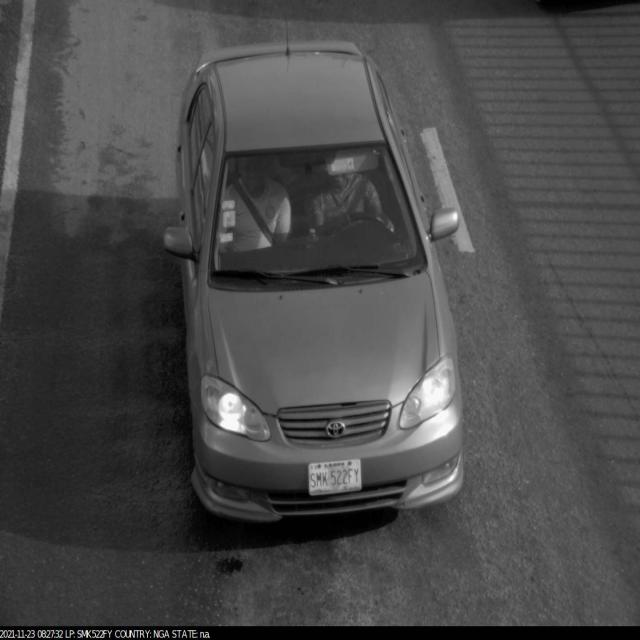windshield: (205, 135, 435, 295)
